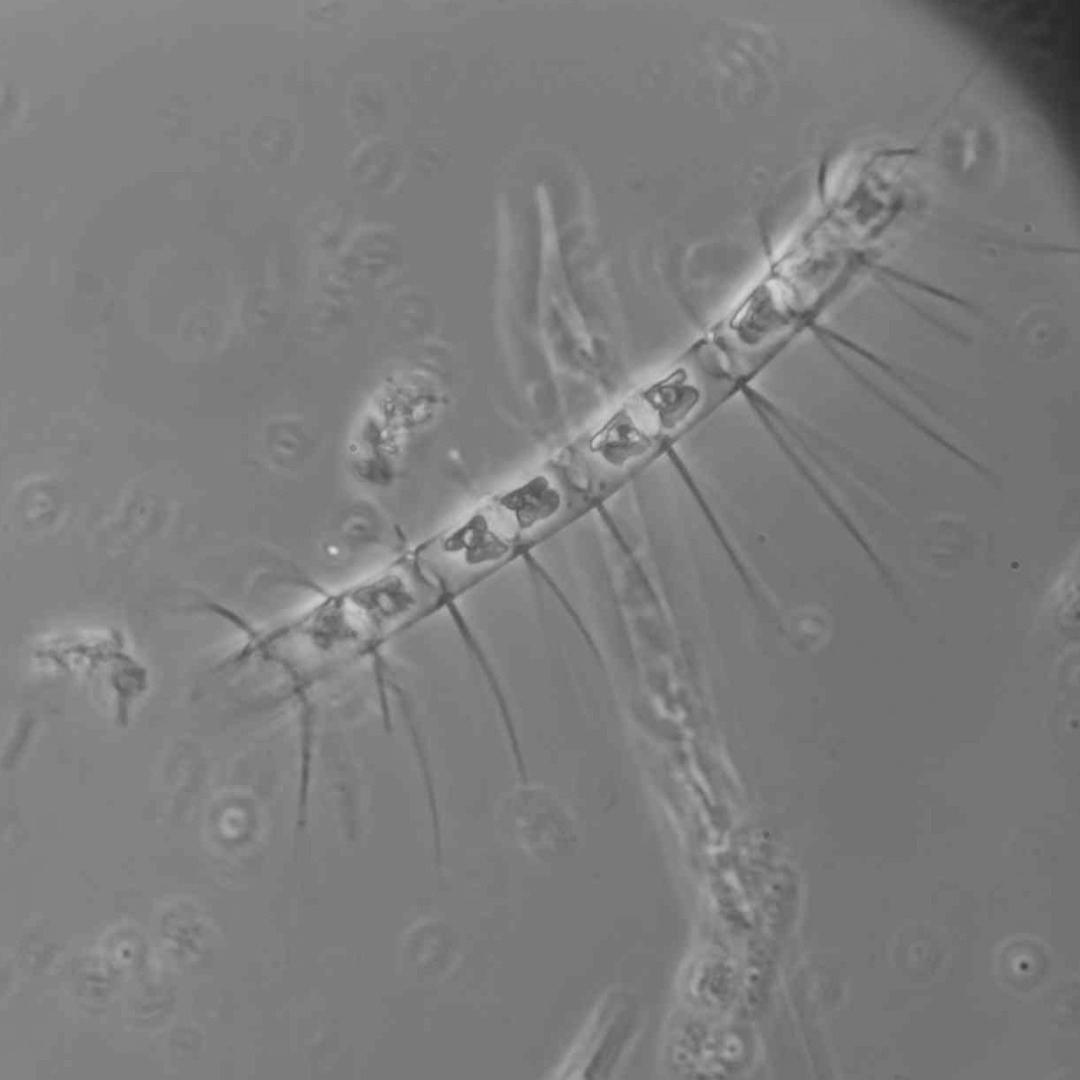chaetoceros_curvisetus: (197, 159, 990, 855)
